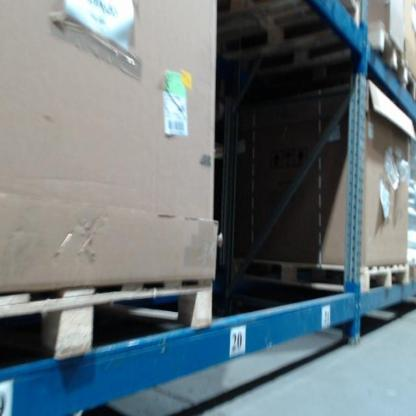pallet: (1, 273, 216, 375), (218, 256, 411, 296), (359, 17, 402, 87), (294, 1, 365, 21), (403, 67, 416, 100)
